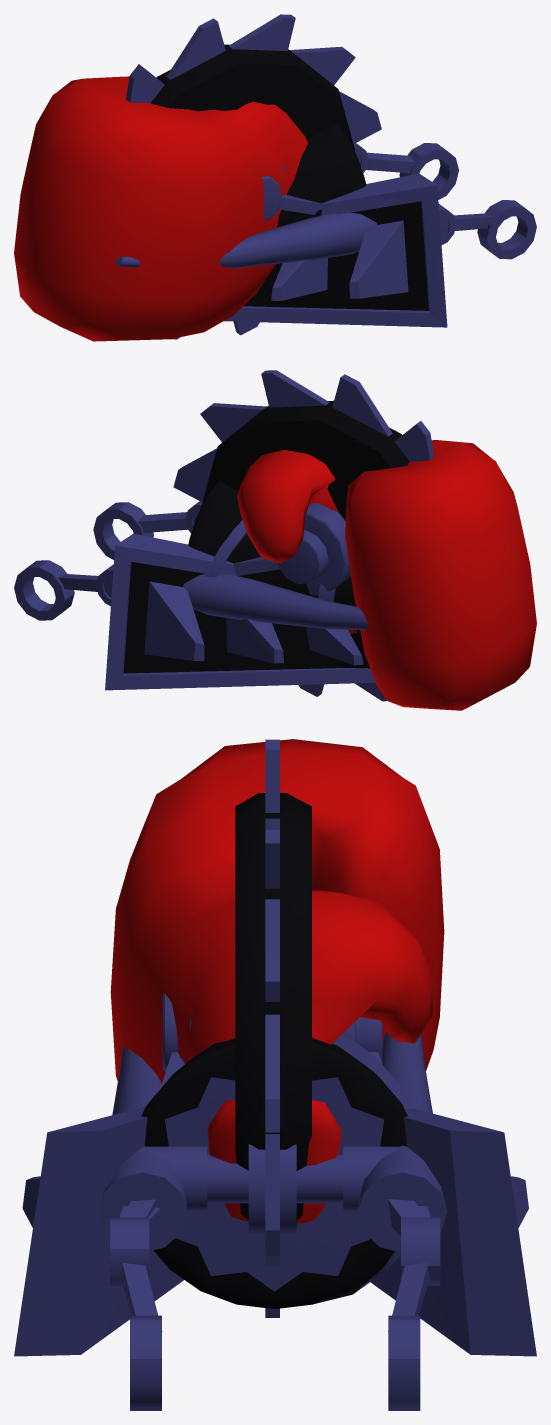
Rendered from weapon_1_2.FBX.
3 renders of one model, top to bottom at view 1: azimuth 30°, elevation 25°; view 2: azimuth 150°, elevation 25°; view 3: azimuth 270°, elevation 25°, orthographic. The views are drawn at different scales.
Parts seen in each view (by area): view 1: boxing, flap, saw, saw_controls, tusk, Boer; view 2: boxing, flap, saw, saw_controls, tusk, Boer; view 3: boxing, flap, saw, Boer, tusk, saw_controls, Boer_controls, flap_controls, boxing _controls, tusk_controls.
Part boxes in pixels (x1=…): boxing: x1=14, y1=76, x2=307, y2=341; flap: x1=224, y1=173, x2=447, y2=327; saw: x1=126, y1=14, x2=381, y2=339; saw_controls: x1=278, y1=143, x2=536, y2=259; tusk: x1=116, y1=212, x2=376, y2=268; Boer: x1=274, y1=123, x2=365, y2=227; boxing: x1=237, y1=440, x2=536, y2=710; flap: x1=105, y1=533, x2=375, y2=690; saw: x1=173, y1=370, x2=434, y2=701; saw_controls: x1=14, y1=501, x2=279, y2=620; tusk: x1=183, y1=574, x2=368, y2=630; Boer: x1=188, y1=481, x2=355, y2=606; boxing: x1=110, y1=739, x2=444, y2=1223; flap: x1=14, y1=1106, x2=536, y2=1356; saw: x1=162, y1=739, x2=382, y2=1317; Boer: x1=141, y1=1033, x2=412, y2=1309; tusk: x1=99, y1=1032, x2=446, y2=1252; saw_controls: x1=110, y1=1052, x2=440, y2=1410; Boer_controls: x1=144, y1=1146, x2=406, y2=1236; flap_controls: x1=144, y1=1146, x2=406, y2=1236; boxing _controls: x1=248, y1=1144, x2=296, y2=1235; tusk_controls: x1=122, y1=1199, x2=426, y2=1233.
Bounding box in the file's own units: 11.11 × 7.37 × 6.59.
